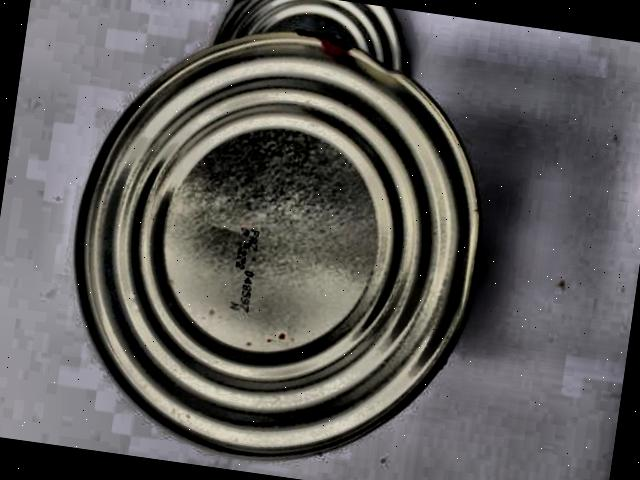Almennt: (28, 0, 523, 480)
